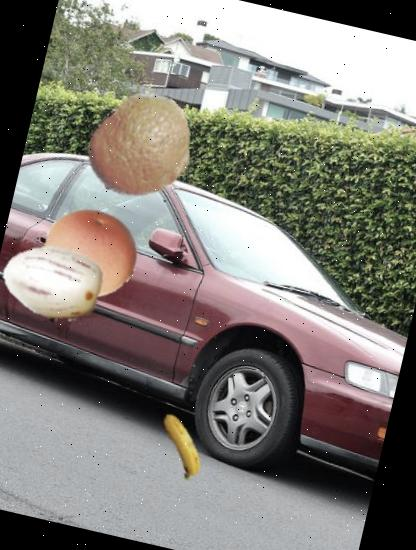Banana: (139, 404, 223, 488)
Grapefruit: (34, 196, 146, 308)
Mandarine: (75, 80, 209, 214)
Pepino: (0, 223, 114, 345)
